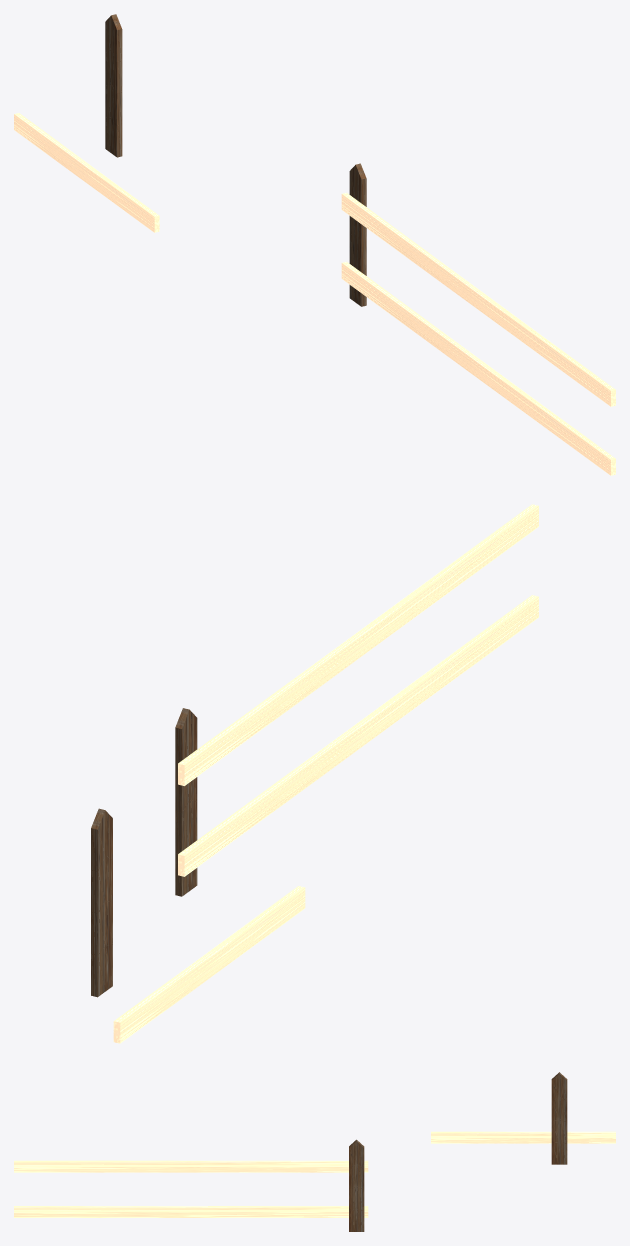
Rendered from uploads_files_3204152_Wooden+Fences.glb.
3 views of the same model, one above another, from view 1: azimuth 30°, elevation 25°; view 2: azimuth 150°, elevation 25°; view 3: azimuth 270°, elevation 25° (orthographic). The views are drawn at different scales.
Visible parts, largest first — view 1: Cube.001, Cube.002, Cube.004, Cube.003, Cube; view 2: Cube.001, Cube.002, Cube.004, Cube.003, Cube; view 3: Cube.001, Cube.002, Cube.004, Cube.003, Cube.
Part boxes in pixels (x1,y1,x2,y2): Cube.001: [341, 192, 615, 406]; Cube.002: [341, 261, 615, 475]; Cube.004: [14, 113, 159, 232]; Cube.003: [105, 14, 122, 157]; Cube: [349, 163, 366, 306]; Cube.001: [178, 504, 538, 785]; Cube.002: [178, 595, 538, 876]; Cube.004: [113, 886, 305, 1043]; Cube.003: [91, 808, 112, 997]; Cube: [175, 708, 197, 896]; Cube.001: [14, 1160, 368, 1172]; Cube.002: [14, 1206, 368, 1217]; Cube.004: [431, 1131, 615, 1143]; Cube.003: [551, 1072, 567, 1164]; Cube: [349, 1139, 364, 1231].
Size of the model in its own units: 1.47 by 1.85 by 7.81.
2 materials, 2 textured.
